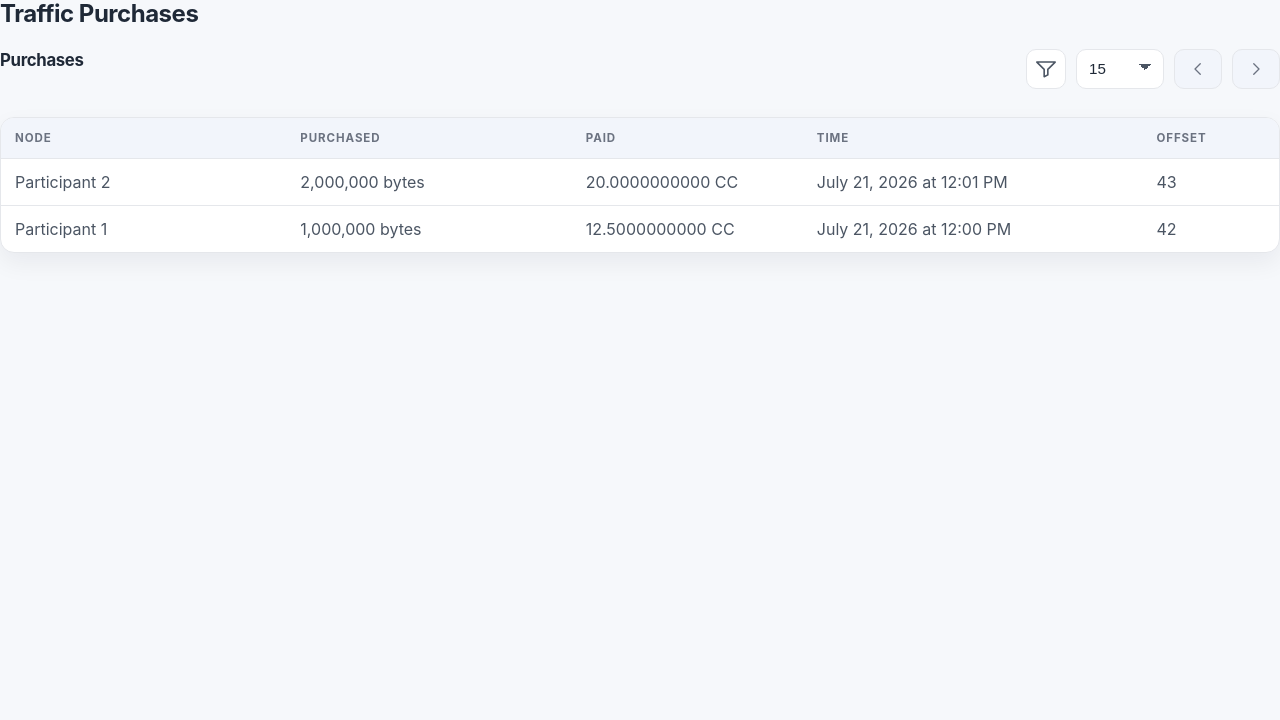
Test: TrafficPurchasesView › renders unfiltered traffic while node discovery is still pending
Expected: the table named "All node traffic purchases" is shown, [0,117,1279,253]
What coordinates should you click on to do the following:
click the button named "Advanced Search"
I would click on:
 (1046, 69)
Its box is [1026,49,1066,89].
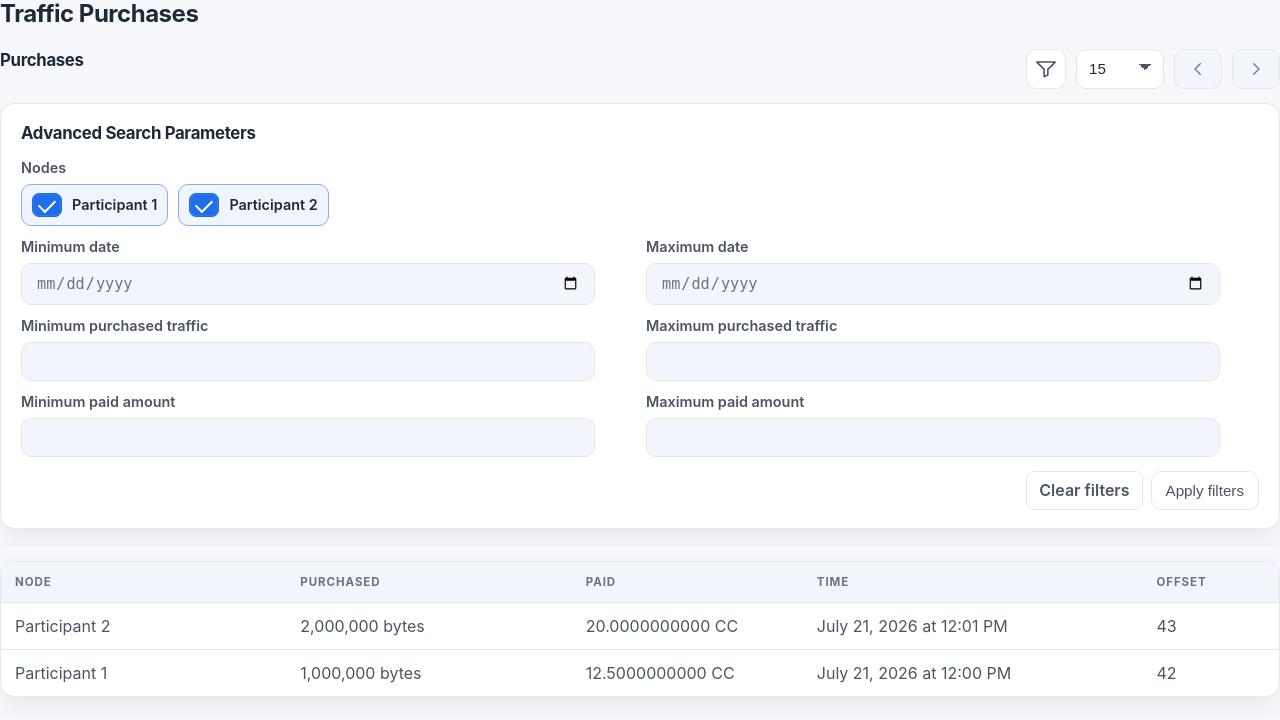
Now the checkbox labelled "Participant 1" is checked, box [32,193,62,217]
